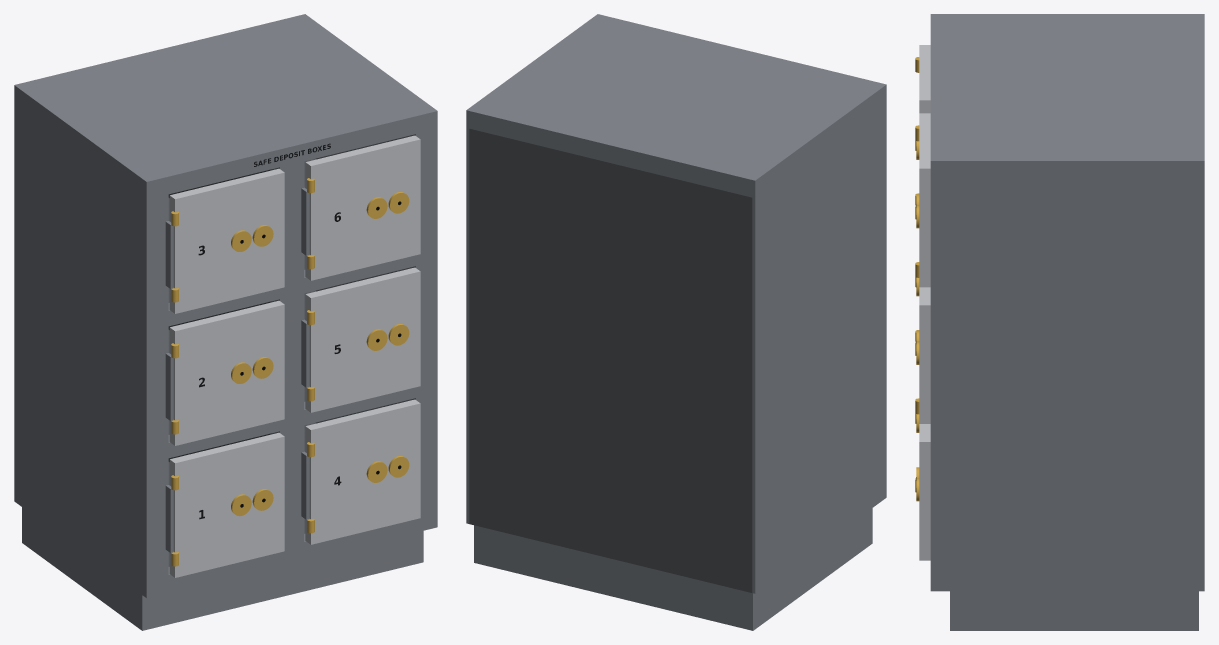
The model's file is safe-deposit-box-cabinet.glb.
3 views of the same model, side by side, from view 1: azimuth 30°, elevation 25°; view 2: azimuth 150°, elevation 25°; view 3: azimuth 270°, elevation 25° (orthographic). The views are drawn at different scales.
Visible parts, largest first — view 1: Geom.020, Geom.024, Geom.012, Geom.025, Geom.032, Geom.039, Geom.053, Geom.046, Geom.060, Geom.022, Geom.023, Geom.013 (+12 smaller); view 2: Geom, Geom.020, Geom.024, Geom.012, Geom.002, Geom.022, Geom.021; view 3: Geom.021, Geom.024, Geom.012, Geom.023, Geom.060, Geom.046, Geom.053, Geom.039.
Part boxes in pixels (x1,y1,x2,y2): Geom.020: [14, 103, 138, 591]; Geom.024: [14, 14, 437, 199]; Geom.012: [22, 507, 423, 630]; Geom.025: [169, 432, 284, 577]; Geom.032: [169, 300, 284, 445]; Geom.039: [169, 168, 284, 313]; Geom.053: [305, 267, 420, 412]; Geom.046: [305, 399, 420, 544]; Geom.060: [305, 135, 420, 280]; Geom.022: [138, 194, 168, 598]; Geom.023: [407, 129, 437, 532]; Geom.013: [168, 519, 415, 592]; Geom: [469, 128, 752, 592]; Geom.020: [752, 108, 878, 593]; Geom.024: [466, 14, 886, 198]; Geom.012: [474, 508, 872, 630]; Geom.002: [469, 506, 752, 592]; Geom.022: [878, 102, 886, 503]; Geom.021: [466, 128, 469, 523]; Geom.021: [948, 179, 1204, 591]; Geom.024: [930, 14, 1204, 179]; Geom.012: [950, 591, 1198, 630]; Geom.023: [930, 179, 948, 591]; Geom.060: [919, 113, 930, 287]; Geom.046: [919, 424, 930, 560]; Geom.053: [919, 287, 930, 423]; Geom.039: [919, 45, 930, 113].
Size of the model in its own units: 0.6 by 0.9 by 0.5.
12 materials, 7 textured.
